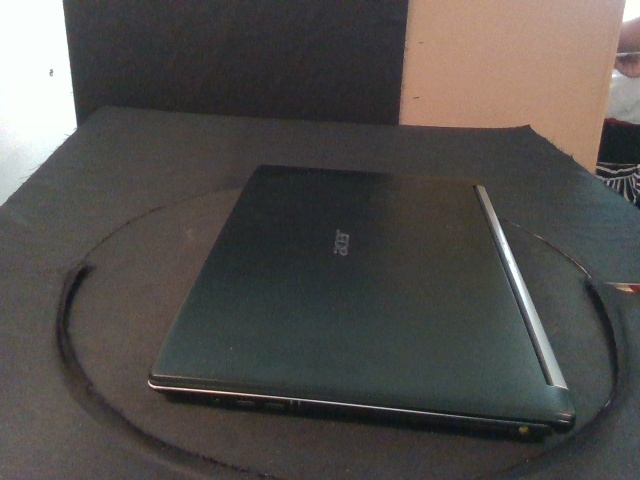laptop: (148, 163, 575, 445)
